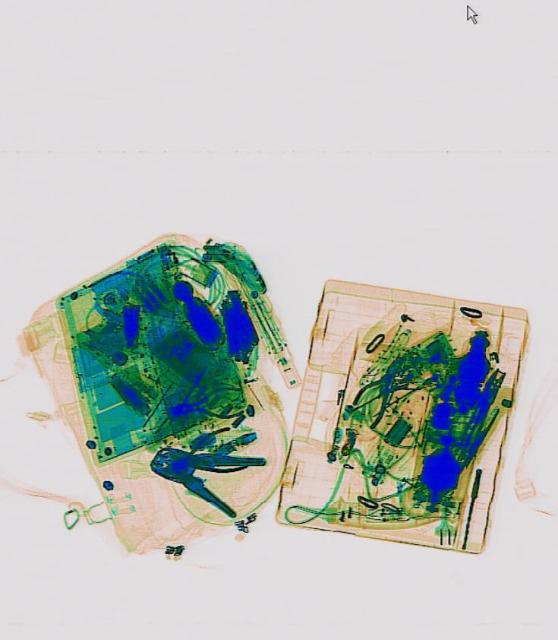Pliers: (140, 423, 267, 523), (342, 344, 417, 430), (162, 422, 247, 490), (155, 383, 245, 427)
